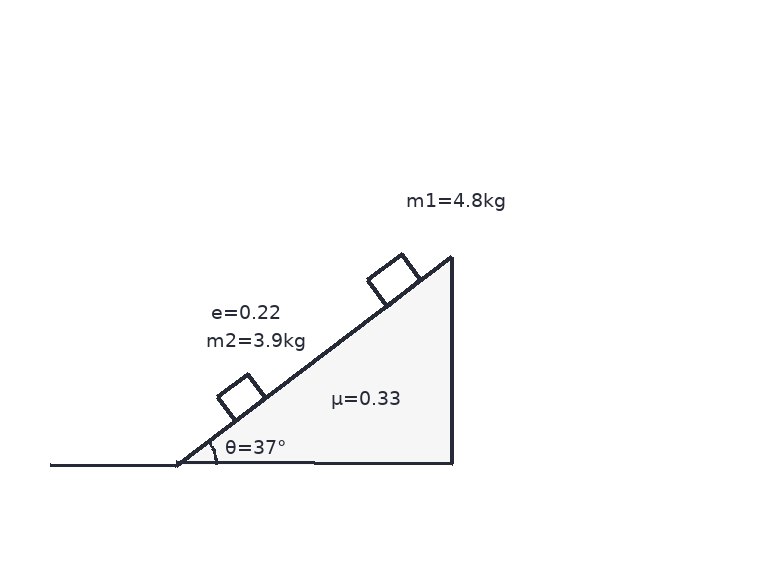block: (364, 252, 423, 308), (215, 372, 267, 422)
ramp: (174, 254, 454, 466)
